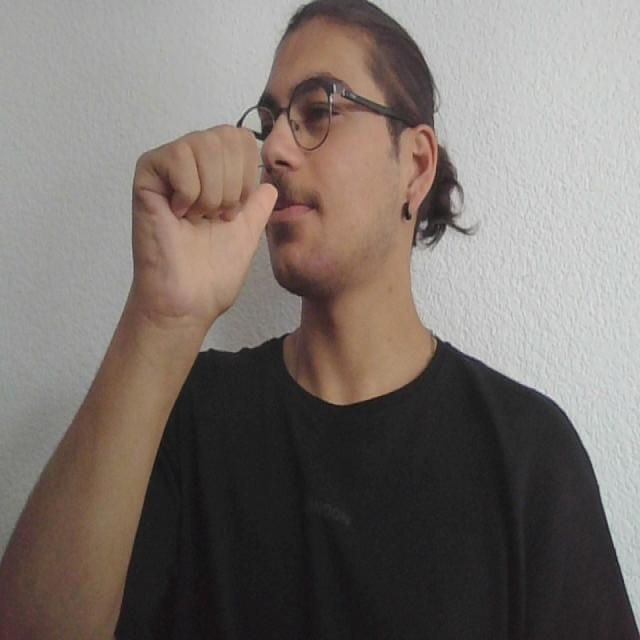icmek: (94, 125, 308, 303)
